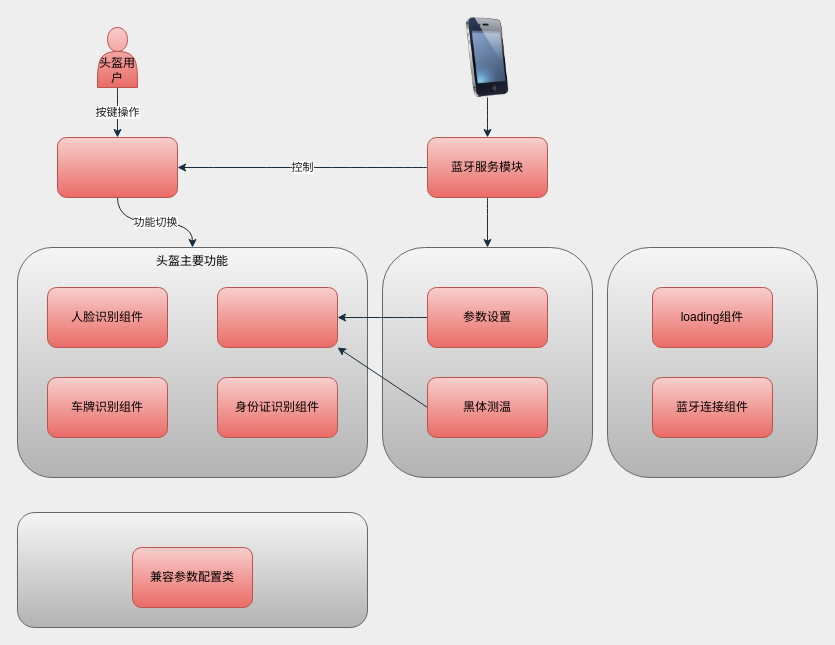
The diagram is 835 pixels wide and 645 high, and some of its shapes have lost their labels. Each missing label, with the box of its shape:
ARouter导航: (56, 136, 178, 198)
应用扩展配置: (16, 512, 368, 628)
红外测温组件: (216, 286, 338, 348)
远程控制相关功能: (382, 246, 592, 478)
通用组件: (606, 246, 818, 478)
